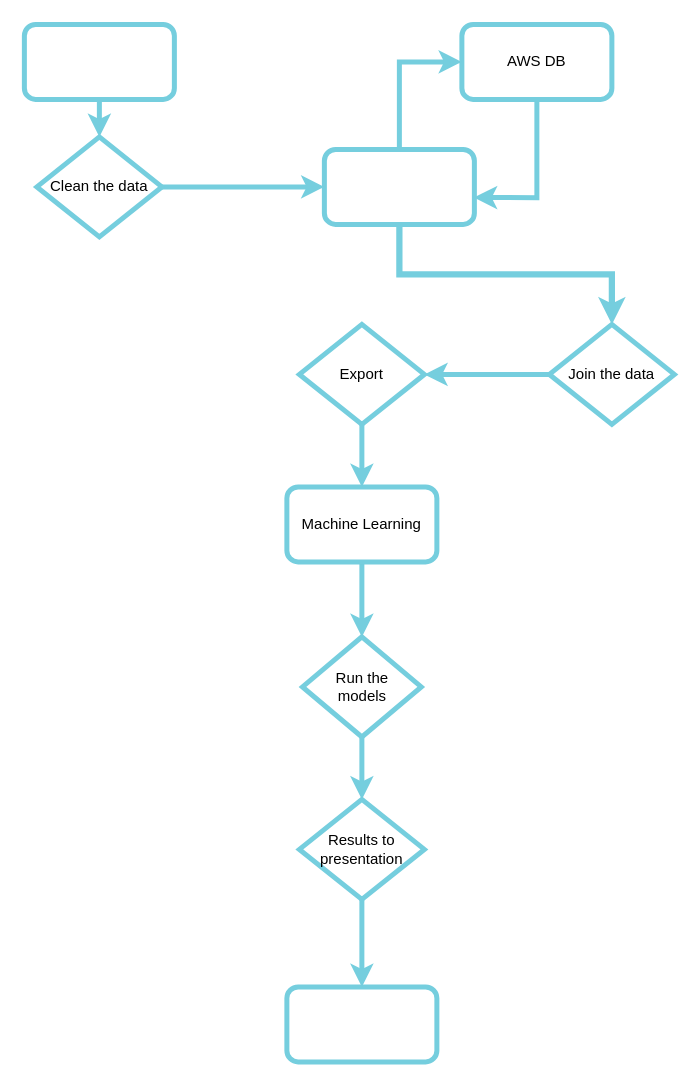
Image size: 698x1085. Some labels were removed from this diagram. The centre of each missing label's shape, as x and y in pixels:
Data collection: (x=98, y=61)
Postgres DB: (x=398, y=186)
Presentation: (x=361, y=1024)
